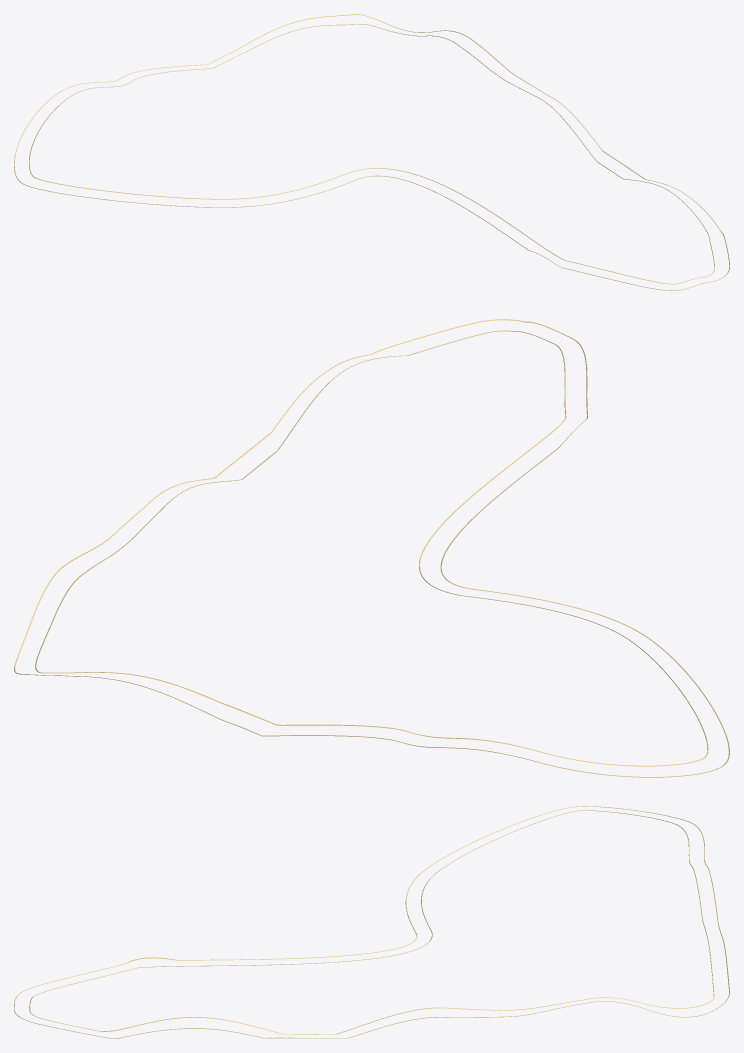
The model's file is OTW1ConBa.fbx.
The picture shows the model from 3 angles, top to bottom: view 1: azimuth 30°, elevation 25°; view 2: azimuth 150°, elevation 25°; view 3: azimuth 270°, elevation 25°; orthographic projection. The views are drawn at different scales.
Parts seen in each view (by area): view 1: ConcretBarrier; view 2: ConcretBarrier; view 3: ConcretBarrier.
Boxes of the visible parts, left/top/right/bottom form: ConcretBarrier: left=14, top=14, right=729, bottom=290; ConcretBarrier: left=14, top=319, right=729, bottom=777; ConcretBarrier: left=14, top=806, right=729, bottom=1038.
Size of the model in its own units: 90792 by 5826 by 116167.
